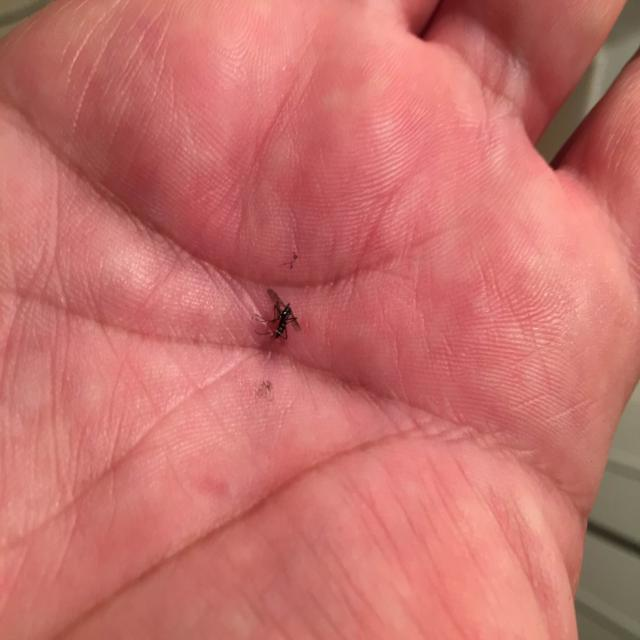albopictus: (252, 281, 302, 343)
